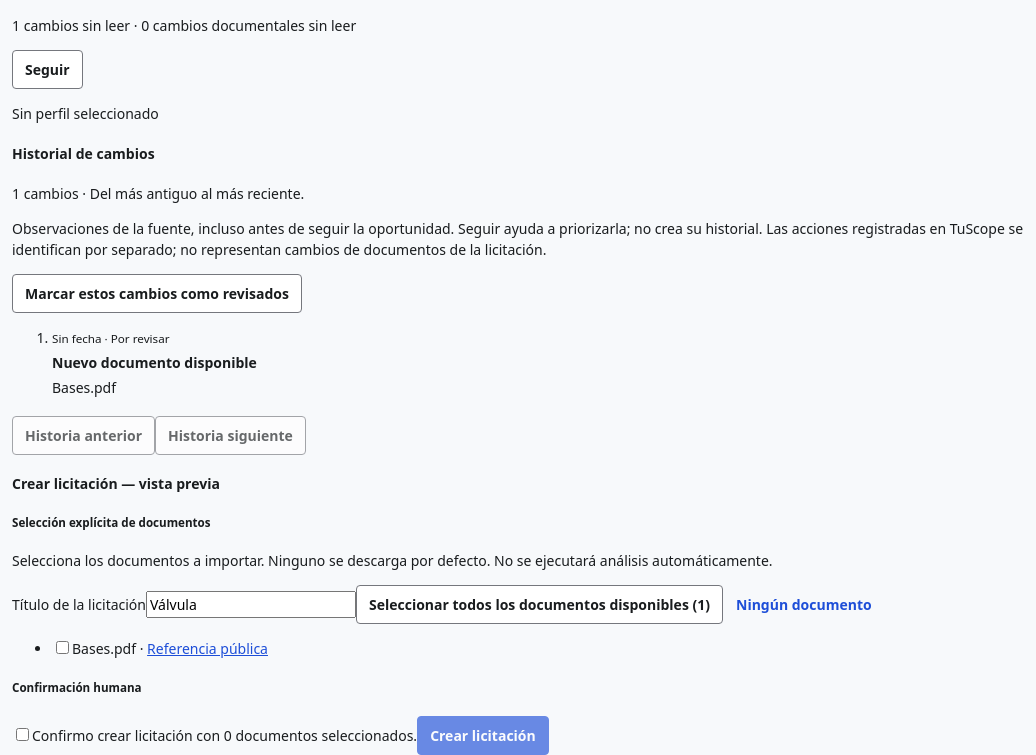
it: preview no crea ni descarga, selección vacía y confirmación obligatoria
The width and height of the screenshot is (1036, 755).
(page scrolled)
Expected: the heading "Crear licitación — vista previa" is shown, [12,474,220,493]
Expected: the checkbox labelled "Bases.pdf" is not checked, [56,641,69,654]
Click the checkbox labelled "Confirmo crear licitación con 0 documentos seleccionados." at [22, 734], box [16,728,29,741]
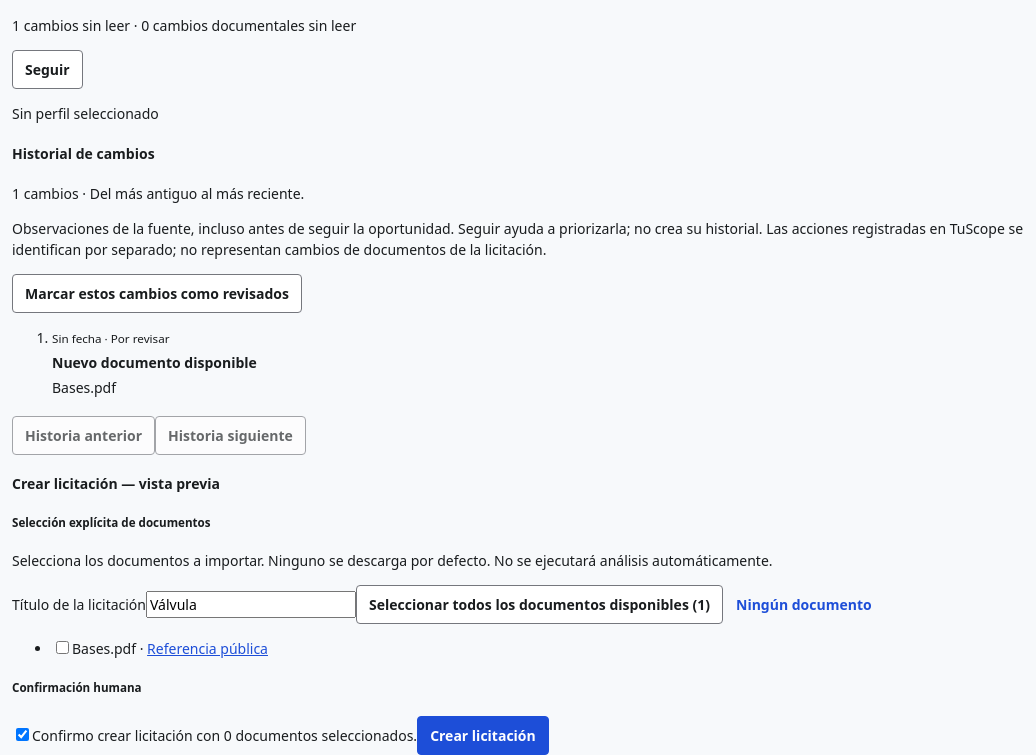
Click the button "Crear licitación" at [483, 735], box [417,716,549,754]
(page scrolled)
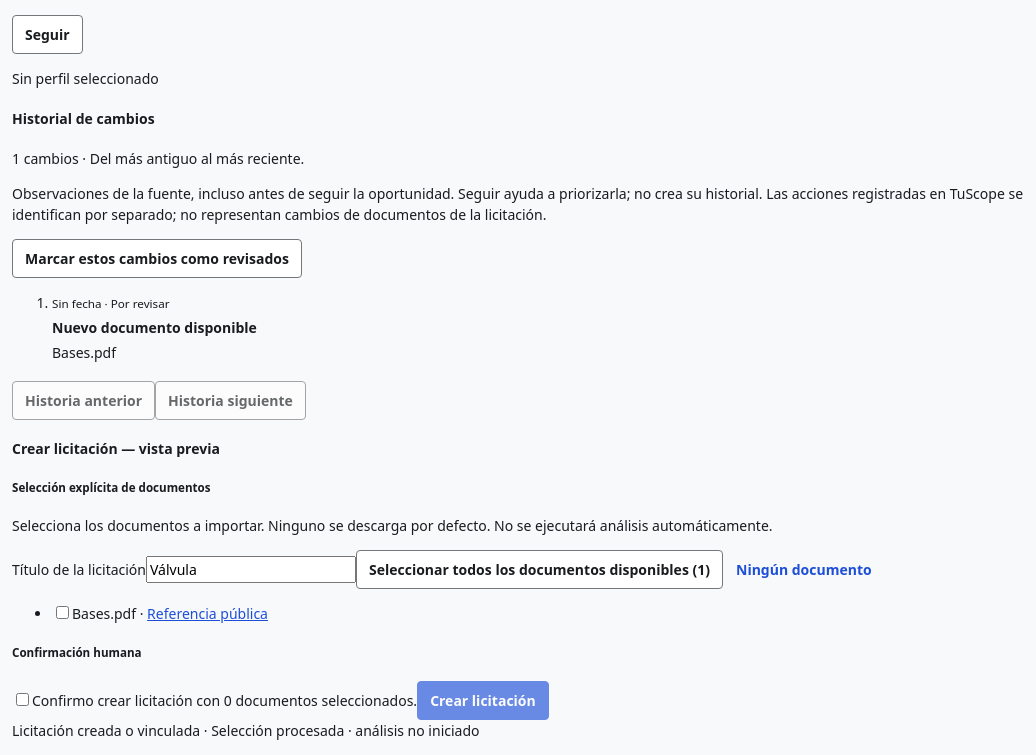
Expected: the text "Licitación creada o vinculada · Selección procesada · análisis no iniciado" is shown, [12,721,480,740]
